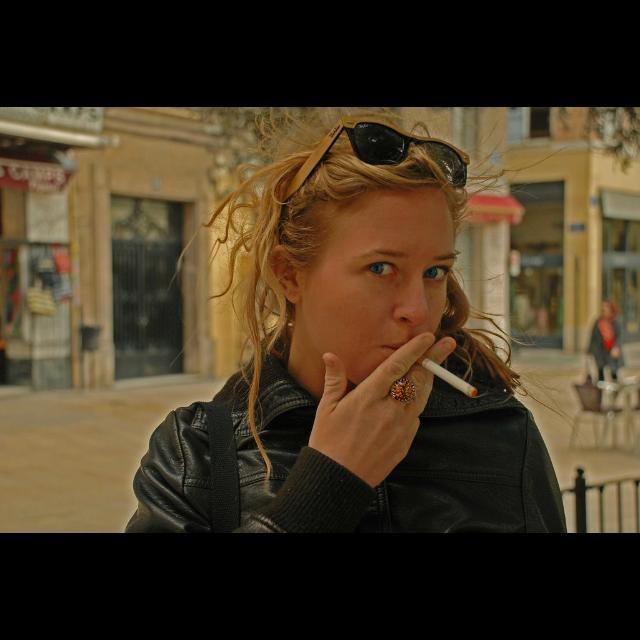rokok: (415, 356, 477, 400)
